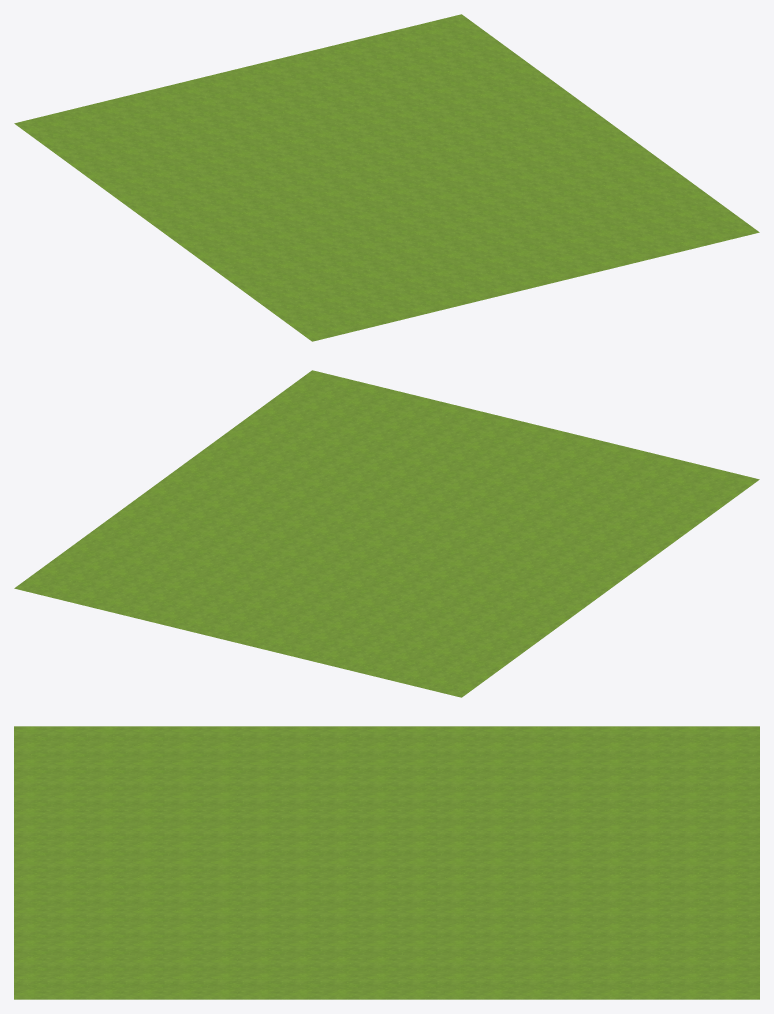
File: GrassGround.fbx
3 views of the same model, one above another, from view 1: azimuth 30°, elevation 25°; view 2: azimuth 150°, elevation 25°; view 3: azimuth 270°, elevation 25° (orthographic). The views are drawn at different scales.
Visible parts, largest first — view 1: Plane; view 2: Plane; view 3: Plane.
Boxes of the visible parts, left/top/right/bottom form: Plane: left=14, top=14, right=759, bottom=341; Plane: left=14, top=370, right=759, bottom=697; Plane: left=14, top=726, right=759, bottom=999.
Size of the model in its own units: 12927 by 0.00243 by 14916.
